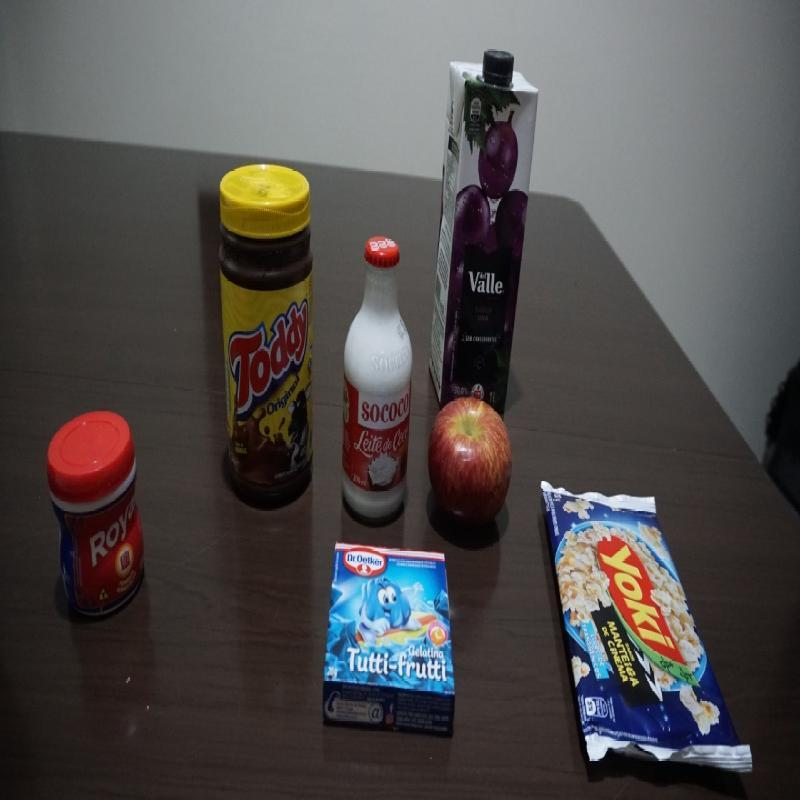Apple: (428, 398, 513, 536)
Chocolate Powder: (218, 163, 318, 515)
Coconut Milk: (339, 235, 414, 530)
Gelatine: (321, 540, 457, 736)
Popcorn: (538, 474, 755, 774)
Yeast: (46, 408, 148, 624)
